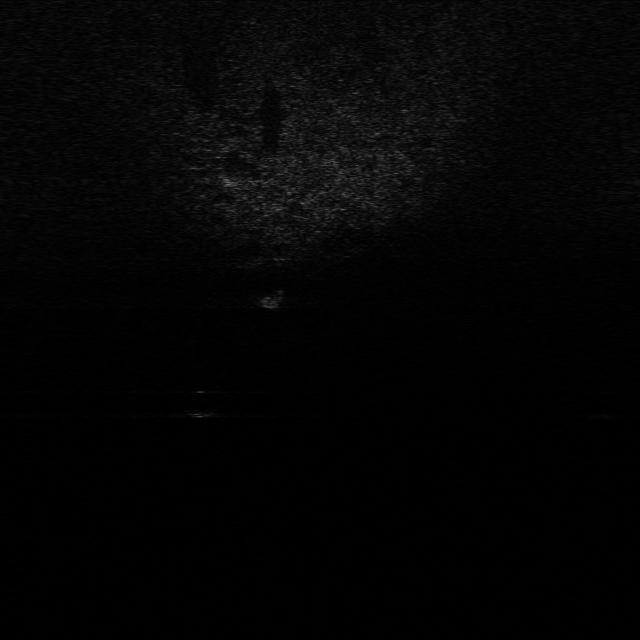ball: (183, 389, 221, 420)
cube: (257, 284, 291, 312)
